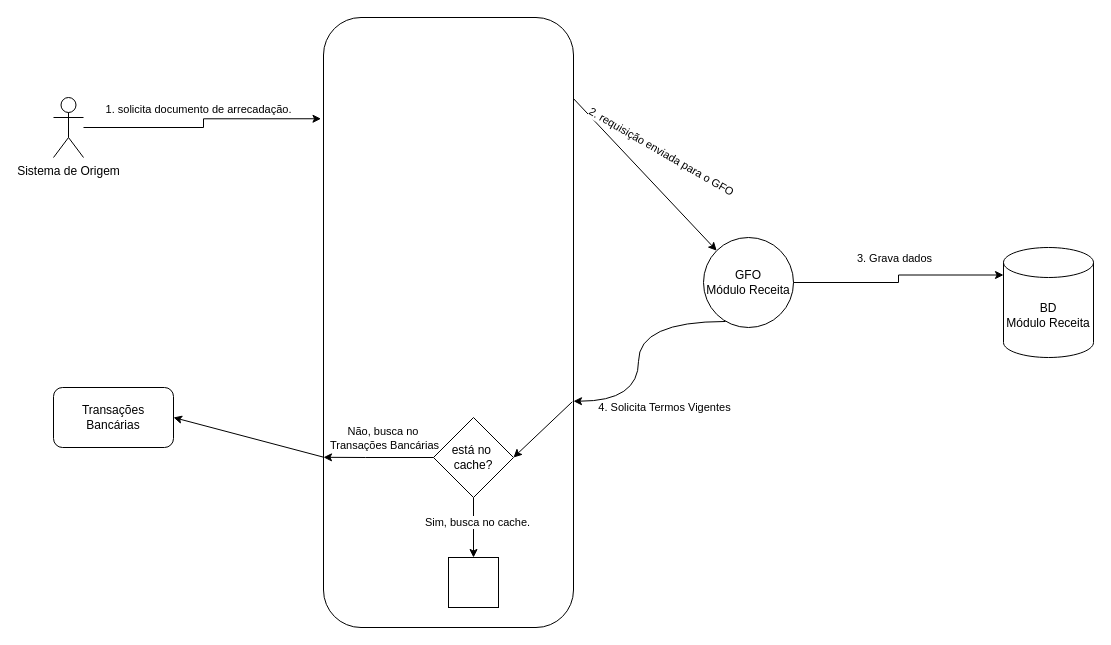
Some shapes in this 1111 by 645 pixel diagram are drawn without their labels. Here are the shapes that lost their labels. From the top down, the box of each, then its label:
(322, 16, 574, 628): MG API
(448, 556, 498, 608): CACHE
